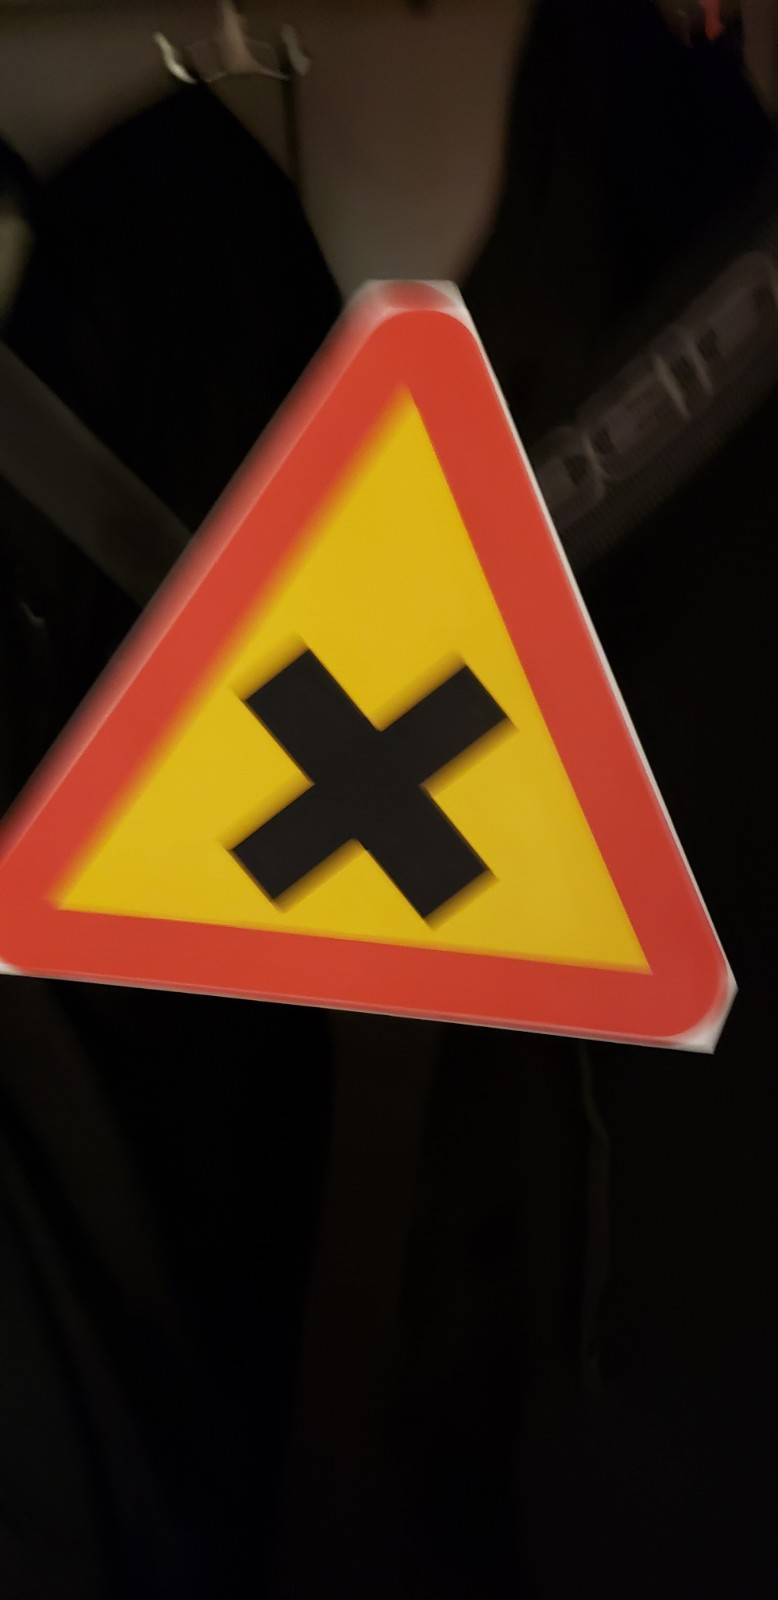junction: (1, 233, 763, 1094)
